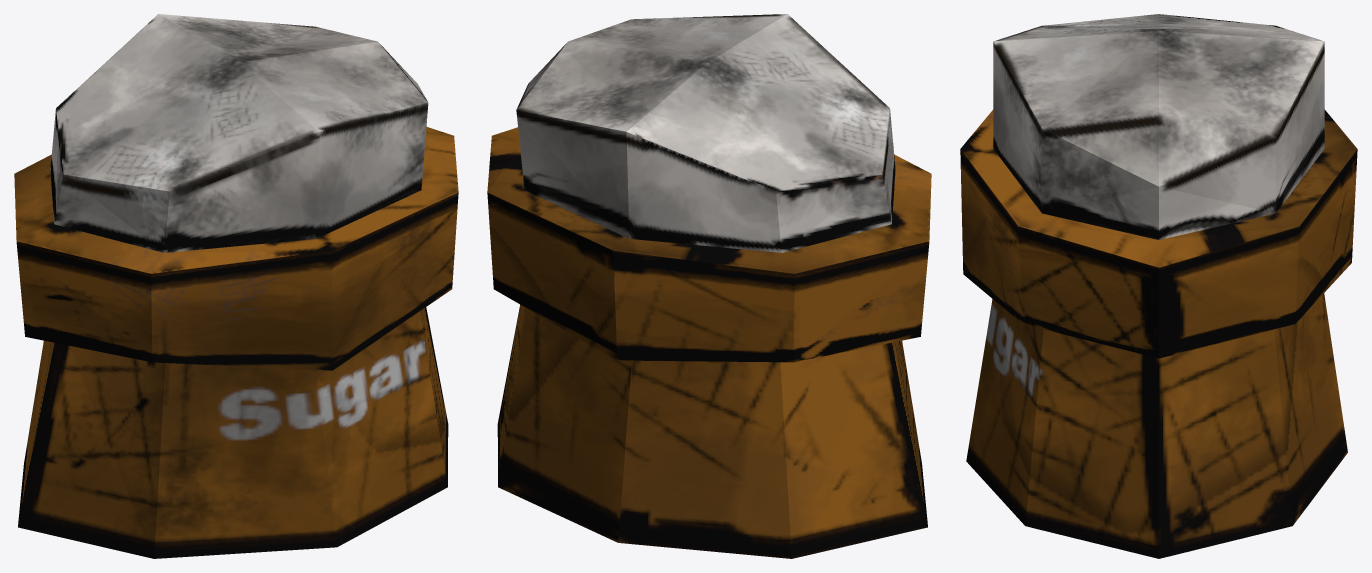
Rendered from sugar_1.glb.
3 renders of one model, left to right at view 1: azimuth 30°, elevation 25°; view 2: azimuth 150°, elevation 25°; view 3: azimuth 270°, elevation 25°, orthographic. The views are drawn at different scales.
Visible parts, largest first — view 1: Sugar Var 1; view 2: Sugar Var 1; view 3: Sugar Var 1.
Part boxes in pixels (x1,y1,x2,y2): Sugar Var 1: (14, 14, 458, 558); Sugar Var 1: (487, 14, 931, 558); Sugar Var 1: (960, 14, 1357, 558).
Bounding box in the file's own units: 0.186 × 0.1693 × 0.1423.
1 material, 1 textured.
